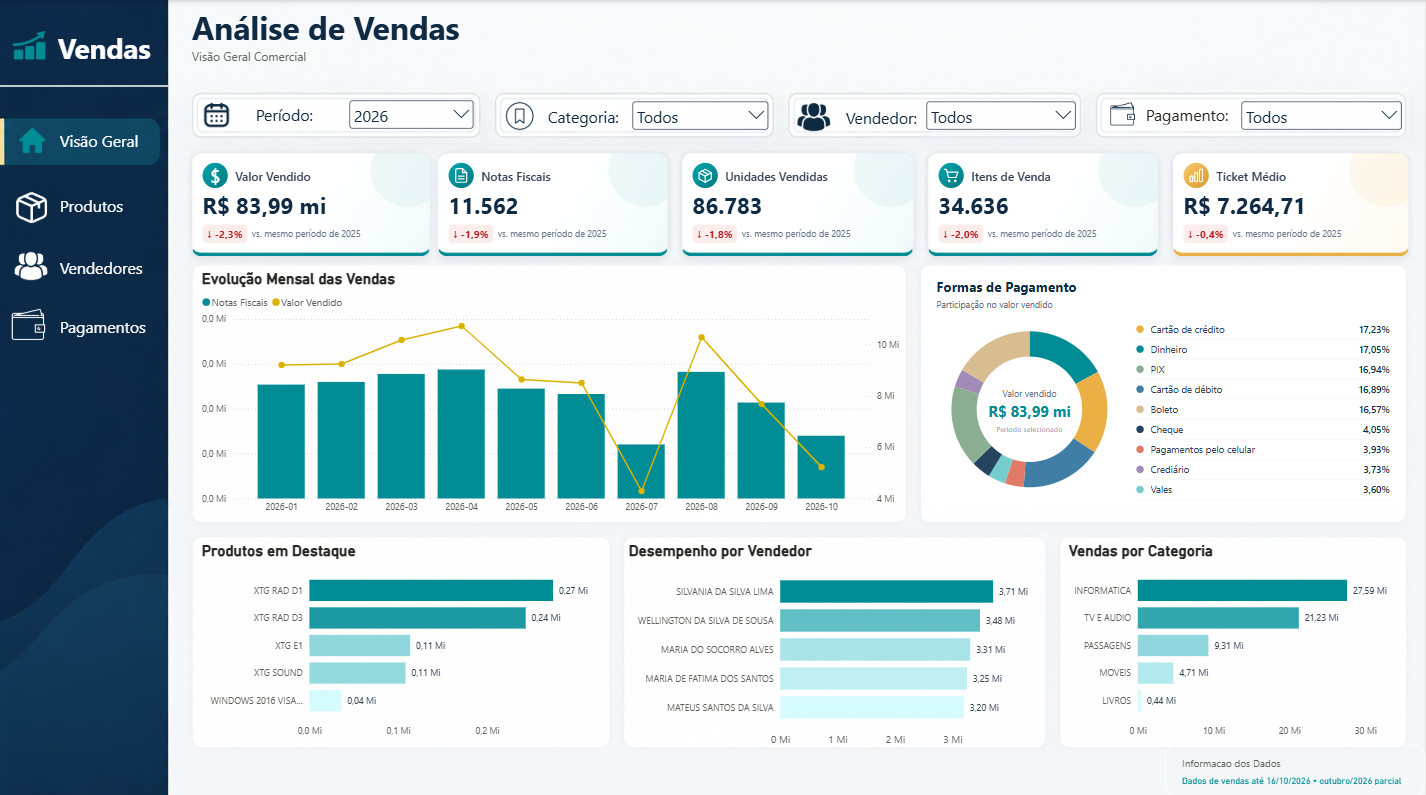

This screenshot's page, from the dashboard's own definition file:
{"tool":"powerbi","page":{"name":"Página 1","canvas":[1920,1080],"ordinal":0},"visuals":[{"type":"htmlContent443BE3AD55E043BF878BED274D3A6855","fields":{"content":["dm_vendas fato_vendas.HTML Valor Vendido"]},"box":[249.1,195.3,342,168.3],"z":0},{"type":"htmlContent443BE3AD55E043BF878BED274D3A6855","fields":{"content":["dm_vendas fato_vendas.HTML Notas Fiscais"]},"box":[580.4,195.3,331.3,168.3],"z":1000},{"type":"htmlContent443BE3AD55E043BF878BED274D3A6855","fields":{"content":["dm_vendas fato_vendas.HTML Unidades Vendidas"]},"box":[909,195.3,332.6,168.3],"z":2000},{"type":"htmlContent443BE3AD55E043BF878BED274D3A6855","fields":{"content":["dm_vendas fato_vendas.HTML Itens de Venda"]},"box":[1240.2,195.3,331.3,168.3],"z":3000},{"type":"htmlContent443BE3AD55E043BF878BED274D3A6855","fields":{"content":["dm_vendas fato_vendas.HTML Ticket Medio"]},"box":[1570.2,195.3,339.4,168.3],"z":4000},{"type":"slicer","title":"Período","fields":{"Values":["dm_vendas dim_tempo.ano"]},"box":[461.9,125.2,187.2,67.3],"z":5000},{"type":"image","box":[268,129.3,49.8,51.2],"z":6000},{"type":"textbox","box":[340.7,134.7,106.4,39.1],"z":7000},{"type":"slicer","title":"Período","fields":{"Values":["dm_vendas dim_produto.categoria"]},"box":[843,126.6,203.3,63.3],"z":8000},{"type":"image","box":[665.2,129.3,72.7,53.9],"z":9000},{"type":"textbox","box":[733.9,137.4,137.4,39.1],"z":10000},{"type":"slicer","title":"Período","fields":{"Values":["dm_vendas dim_vendedor.nome"]},"box":[1238.9,126.6,220.8,53.9],"z":11000},{"type":"textbox","box":[1135.2,138.7,130.6,39.1],"z":12000},{"type":"image","box":[1069.2,130.6,55.2,53.9],"z":13000},{"type":"image","box":[1486.7,132,52.5,43.1],"z":14000},{"type":"slicer","title":"Período","fields":{"Values":["dm_vendas dim_forma_pagamento.descricao"]},"box":[1663.1,126.6,235.7,55.2],"z":15000},{"type":"textbox","box":[1539.2,134.7,142.7,37.7],"z":16000},{"type":"lineStackedColumnComboChart","title":"Evolução Mensal das Vendas","fields":{"Category":["dm_vendas dim_tempo.ano_mes"],"Y":["dm_vendas fato_vendas.Notas Fiscais"],"Y2":["dm_vendas fato_vendas.Valor Vendido"]},"box":[268,363.6,949.4,338],"z":17000},{"type":"clusteredBarChart","title":"Vendas por Categoria","fields":{"Category":["dm_vendas dim_produto.categoria"],"Y":["dm_vendas fato_vendas.Valor Vendido"]},"box":[1435.6,729.5,453.7,272.8],"z":18000},{"type":"clusteredBarChart","title":"Produtos em Destaque","fields":{"Category":["dm_vendas dim_produto.nome"],"Y":["dm_vendas fato_vendas.Valor Vendido"]},"box":[268.4,729.5,547.1,272.8],"z":19000},{"type":"clusteredBarChart","title":"Desempenho por Vendedor","fields":{"Category":["dm_vendas dim_vendedor.nome"],"Y":["dm_vendas fato_vendas.Valor Vendido"]},"box":[843.3,729.5,561.7,284.5],"z":20000},{"type":"htmlContent443BE3AD55E043BF878BED274D3A6855","fields":{"content":["dm_vendas fato_vendas.HTML Formas de Pagamento"]},"box":[1241.6,354.2,657.2,347.4],"z":21001},{"type":"image","box":[13.5,167,63.3,44.4],"z":21002},{"type":"textbox","box":[76.8,169.7,137.4,44.4],"z":21003},{"type":"image","box":[13.5,249.1,60.6,60.6],"z":21004},{"type":"textbox","box":[76.8,257.2,137.4,44.4],"z":21005},{"type":"image","box":[12.1,331.3,61.9,53.9],"z":21006},{"type":"textbox","box":[76.8,340.7,137.4,44.4],"z":21007},{"type":"image","box":[12.1,409.4,55.2,55.2],"z":21008},{"type":"textbox","box":[76.8,420.1,137.4,44.4],"z":21009},{"type":"image","box":[13.5,30.6,53.9,60.6],"z":21010},{"type":"textbox","box":[74.1,34.7,171,74.1],"z":21011},{"type":"shape","box":[0,94.3,227.6,43.1],"z":21012},{"type":"textbox","box":[254.5,2.7,447.1,91.6],"z":21013},{"type":"textbox","box":[254.5,60.6,223.5,45.8],"z":21014},{"type":"cardVisual","fields":{"Data":["dm_vendas fato_vendas.Informacao dos Dados"]},"box":[1570.2,1003.2,350.1,70],"z":21015}]}

Visuals, with their boxes on the page's 1920x1080 design canvas (x1, y1, x2, y2). These are canvas units, not pixel positions in the 1426x795 screenshot, which may show the page scaled, cropped or inside an application window:
htmlContent443BE3AD55E043BF878BED274D3A6855 - dm_vendas fato_vendas.HTML Valor Vendido: <bbox>249, 195, 591, 364</bbox>
htmlContent443BE3AD55E043BF878BED274D3A6855 - dm_vendas fato_vendas.HTML Notas Fiscais: <bbox>580, 195, 912, 364</bbox>
htmlContent443BE3AD55E043BF878BED274D3A6855 - dm_vendas fato_vendas.HTML Unidades Vendidas: <bbox>909, 195, 1242, 364</bbox>
htmlContent443BE3AD55E043BF878BED274D3A6855 - dm_vendas fato_vendas.HTML Itens de Venda: <bbox>1240, 195, 1572, 364</bbox>
htmlContent443BE3AD55E043BF878BED274D3A6855 - dm_vendas fato_vendas.HTML Ticket Medio: <bbox>1570, 195, 1910, 364</bbox>
"Período" slicer: <bbox>462, 125, 649, 192</bbox>
image: <bbox>268, 129, 318, 180</bbox>
textbox: <bbox>341, 135, 447, 174</bbox>
"Período" slicer: <bbox>843, 127, 1046, 190</bbox>
image: <bbox>665, 129, 738, 183</bbox>
textbox: <bbox>734, 137, 871, 176</bbox>
"Período" slicer: <bbox>1239, 127, 1460, 180</bbox>
textbox: <bbox>1135, 139, 1266, 178</bbox>
image: <bbox>1069, 131, 1124, 184</bbox>
image: <bbox>1487, 132, 1539, 175</bbox>
"Período" slicer: <bbox>1663, 127, 1899, 182</bbox>
textbox: <bbox>1539, 135, 1682, 172</bbox>
"Evolução Mensal das Vendas" lineStackedColumnComboChart: <bbox>268, 364, 1217, 702</bbox>
"Vendas por Categoria" clusteredBarChart: <bbox>1436, 730, 1889, 1002</bbox>
"Produtos em Destaque" clusteredBarChart: <bbox>268, 730, 816, 1002</bbox>
"Desempenho por Vendedor" clusteredBarChart: <bbox>843, 730, 1405, 1014</bbox>
htmlContent443BE3AD55E043BF878BED274D3A6855 - dm_vendas fato_vendas.HTML Formas de Pagamento: <bbox>1242, 354, 1899, 702</bbox>
image: <bbox>14, 167, 77, 211</bbox>
textbox: <bbox>77, 170, 214, 214</bbox>
image: <bbox>14, 249, 74, 310</bbox>
textbox: <bbox>77, 257, 214, 302</bbox>
image: <bbox>12, 331, 74, 385</bbox>
textbox: <bbox>77, 341, 214, 385</bbox>
image: <bbox>12, 409, 67, 465</bbox>
textbox: <bbox>77, 420, 214, 464</bbox>
image: <bbox>14, 31, 67, 91</bbox>
textbox: <bbox>74, 35, 245, 109</bbox>
shape: <bbox>0, 94, 228, 137</bbox>
textbox: <bbox>254, 3, 702, 94</bbox>
textbox: <bbox>254, 61, 478, 106</bbox>
cardVisual - dm_vendas fato_vendas.Informacao dos Dados: <bbox>1570, 1003, 1920, 1073</bbox>
